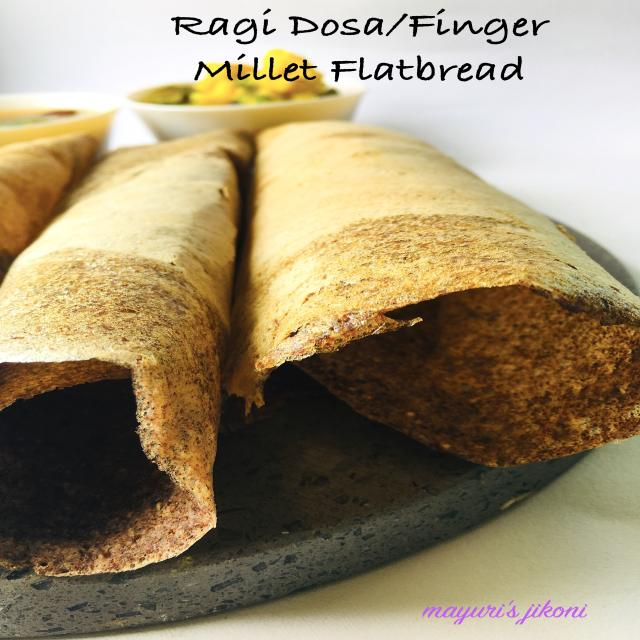DOSA: (222, 121, 640, 467), (0, 130, 254, 576)
